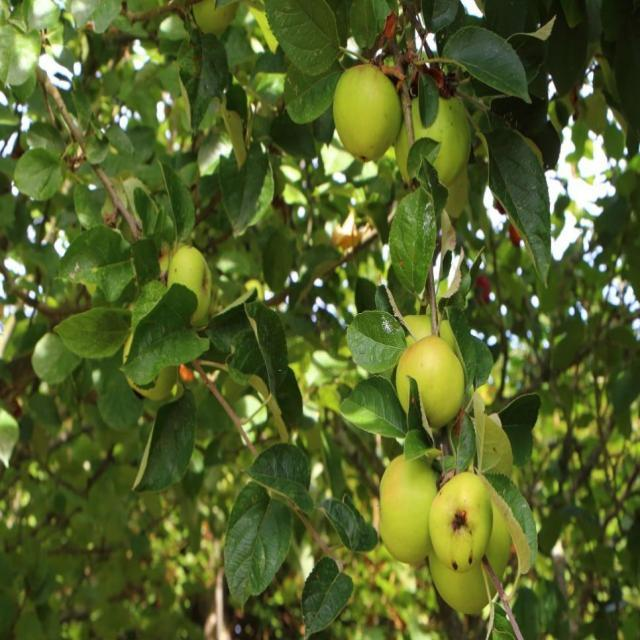Green Apple: (374, 444, 447, 568), (429, 508, 508, 619), (396, 77, 467, 184), (333, 55, 400, 161), (429, 468, 490, 568), (396, 335, 462, 422), (402, 311, 460, 363), (165, 248, 210, 315), (125, 343, 174, 400), (190, 1, 234, 40)
